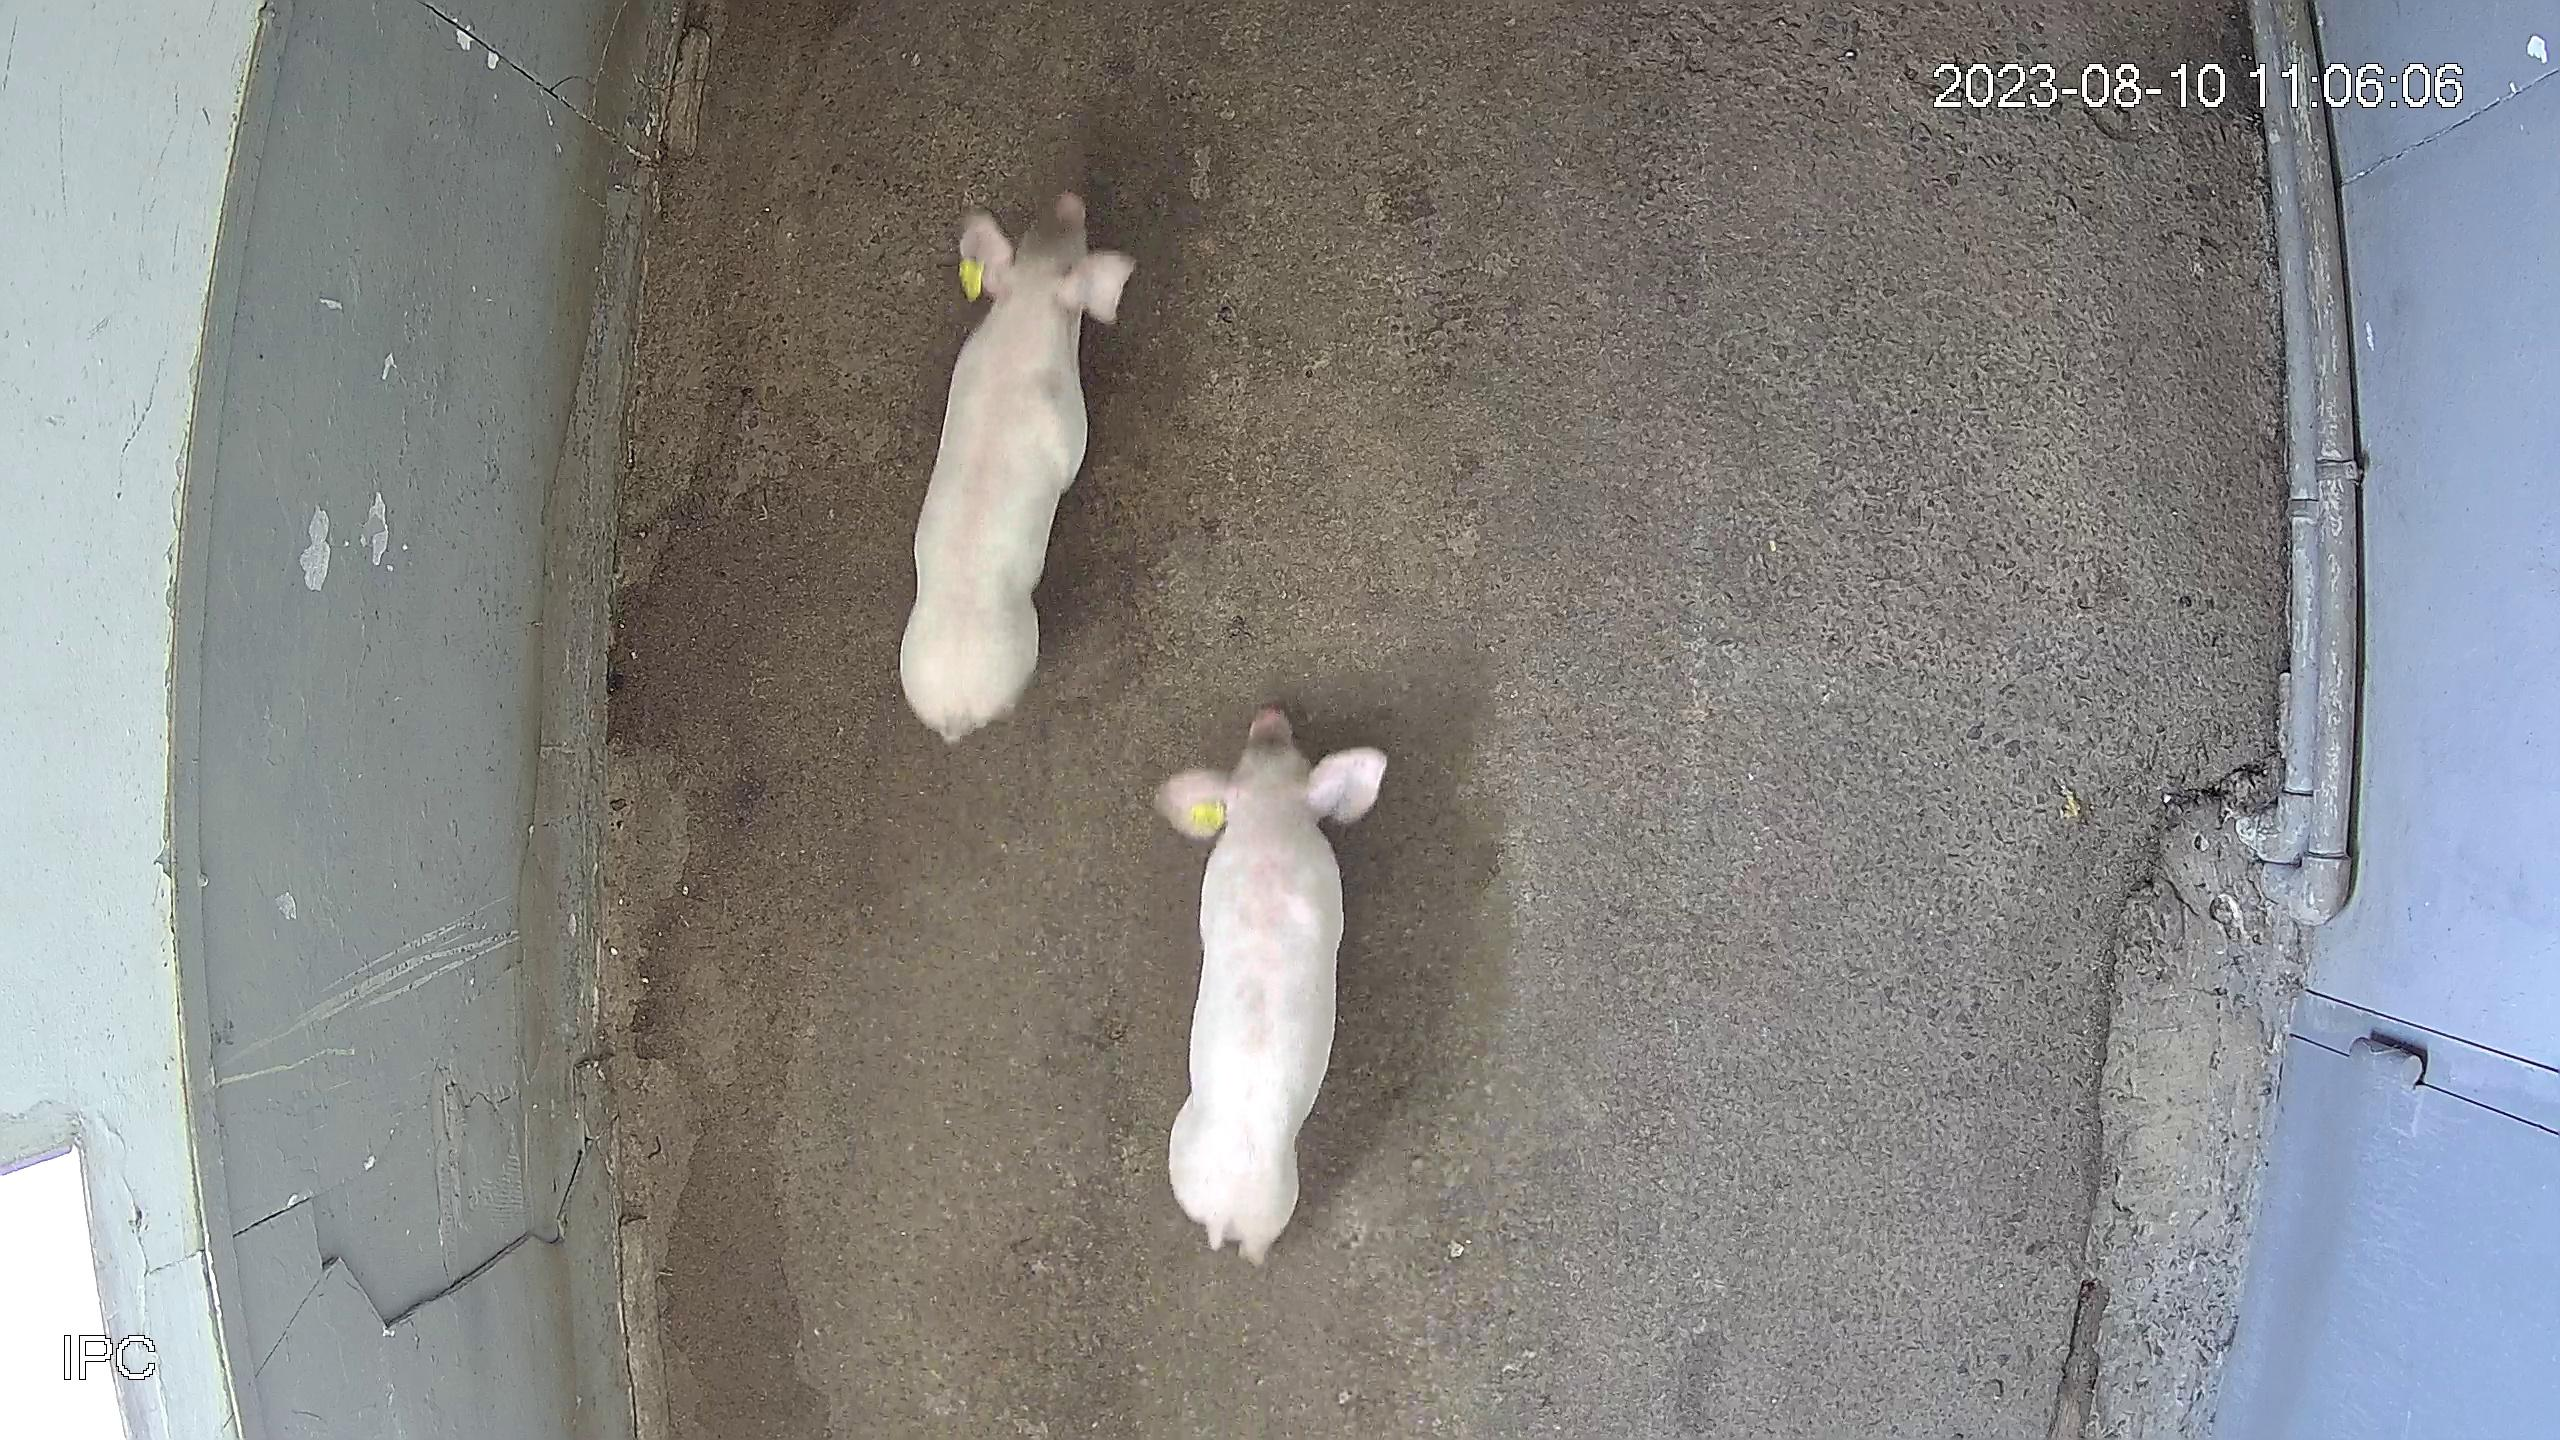Pig: (898, 190, 1136, 740), (1155, 703, 1387, 1264)
